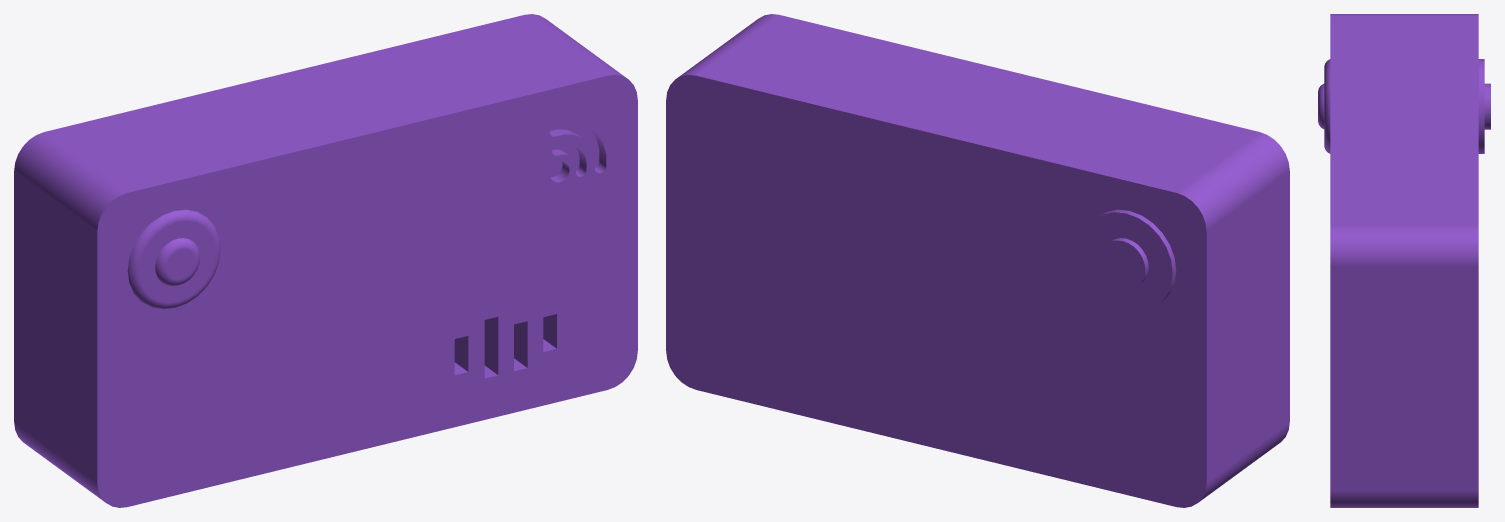
File: SmrutiPankha_Model.gltf
The picture shows the model from 3 angles, left to right: view 1: azimuth 30°, elevation 25°; view 2: azimuth 150°, elevation 25°; view 3: azimuth 270°, elevation 25°; orthographic projection. The views are drawn at different scales.
Visible parts, largest first — view 1: Untitled; view 2: Untitled; view 3: Untitled.
Part boxes in pixels (x1,y1,x2,y2): Untitled: [14, 14, 637, 507]; Untitled: [666, 14, 1289, 507]; Untitled: [1318, 14, 1490, 507].
Size of the model in its own units: 4.5 by 2.5 by 1.4.
